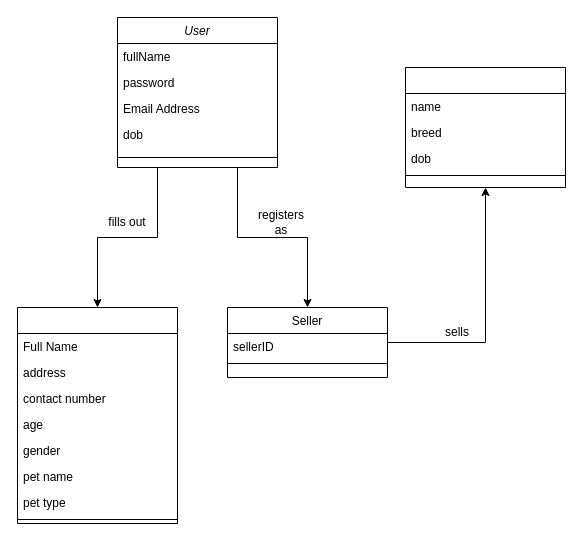
This 583x541 diagram has some shape labels left out. Here are the shapes that lost their labels. From the top down, the box of each, then its label:
(404, 66, 566, 188): Pet
(16, 306, 178, 524): Adoption Form
